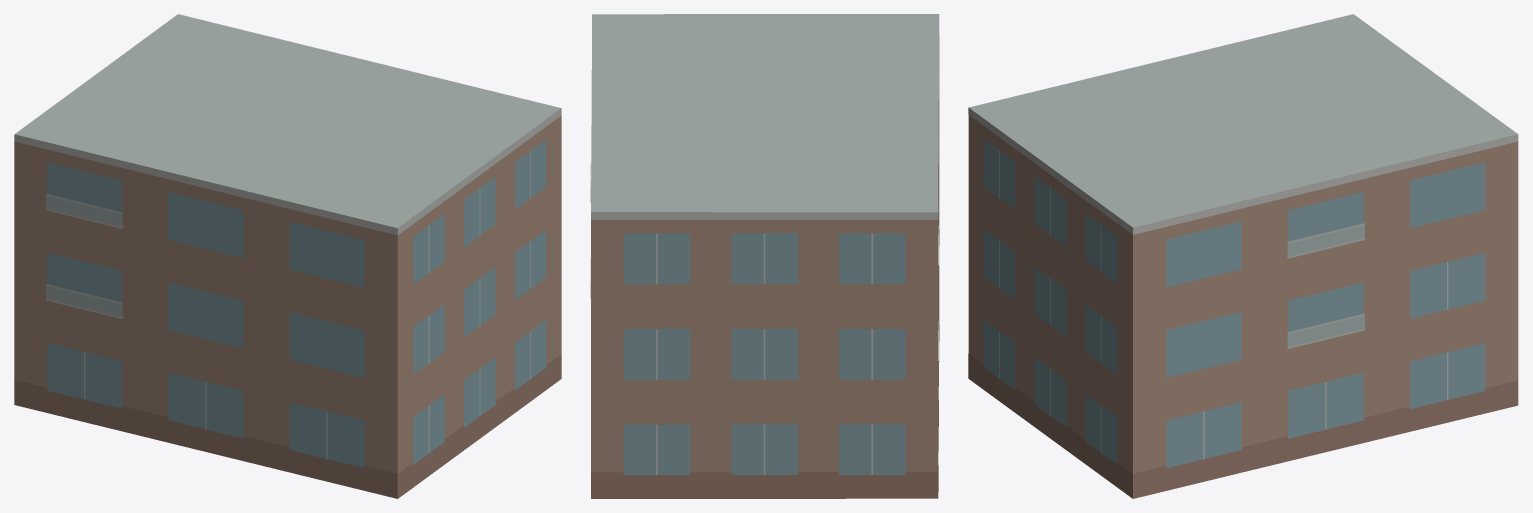
File: survey-upis-33019114.glb
3 views of the same model, side by side, from view 1: azimuth 30°, elevation 25°; view 2: azimuth 150°, elevation 25°; view 3: azimuth 270°, elevation 25° (orthographic). The views are drawn at different scales.
Visible parts, largest first — view 1: survey-upis-33019114.tmp; view 2: survey-upis-33019114.tmp; view 3: survey-upis-33019114.tmp.
Boxes of the visible parts, x1,y1,x2,y2 form: survey-upis-33019114.tmp: (14,14,561,498); survey-upis-33019114.tmp: (590,14,939,498); survey-upis-33019114.tmp: (968,14,1518,498).
Bounding box in the file's own units: 15.47 × 9.15 × 16.82.
